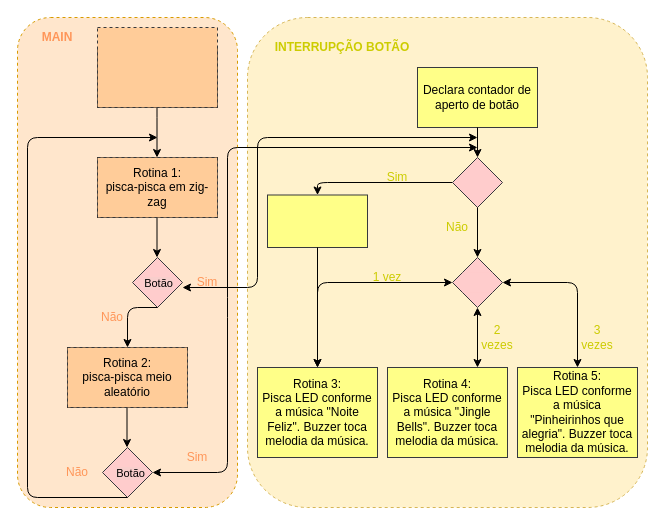
The diagram is 665 pixels wide and 525 high, and some of its shapes have lost their labels. The shapes that lost their labels are listed below. From the top down, each one's box as (x1, y1, x2, y2) in pixels, then its label:
(96, 26, 218, 108): Declara pinos LED Declara pino botão Declara pino buzzer Declara notas musicais
(467, 180, 487, 194): Contador > 2
(266, 194, 368, 248): Contador recebe 1 vez
(462, 272, 492, 292): Apertou
